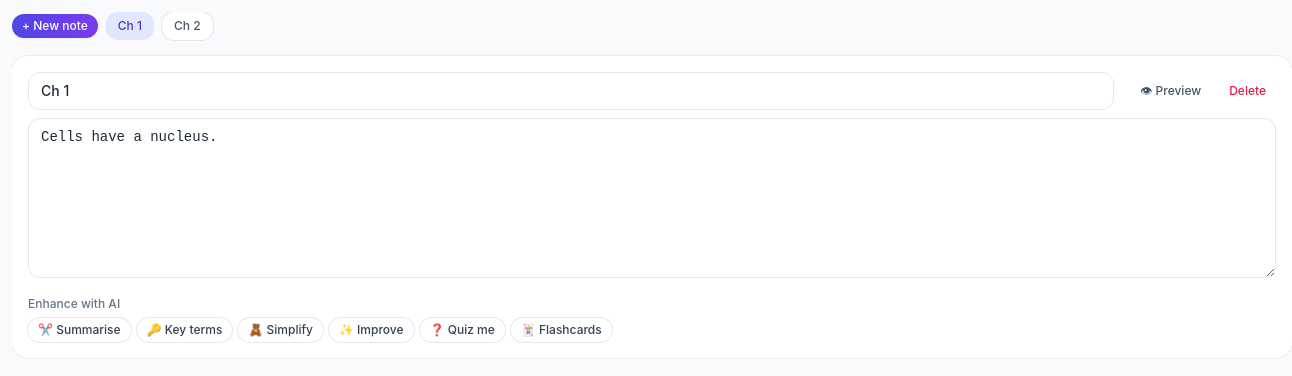
Test: MyNotes › autosaves edits after a short debounce
Replace the text in the text box named "Note content" with "new text" at point(652, 198), box [28, 118, 1276, 278]
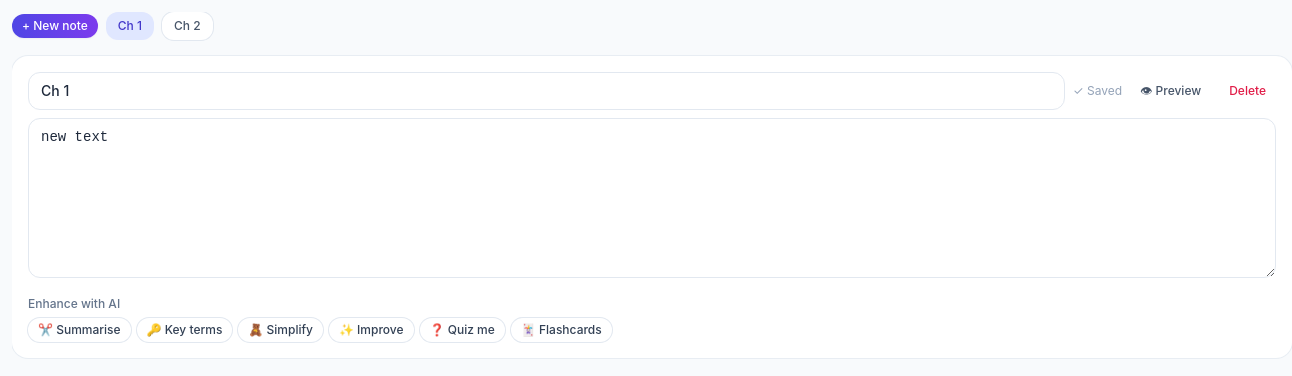
Expected: the text "✓ Saved" is shown, [1073, 83, 1122, 99]
